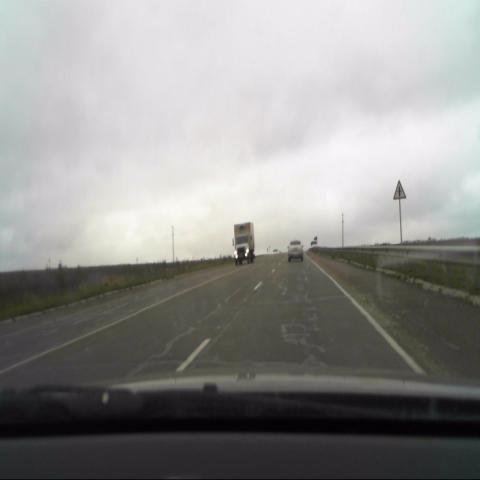2_3: (393, 180, 406, 201)
